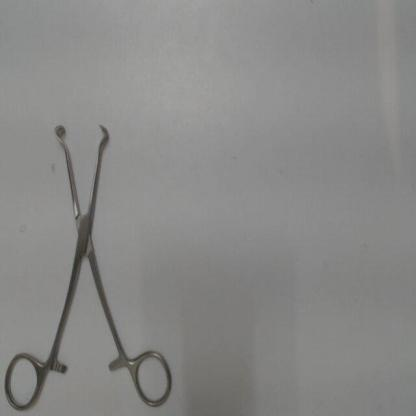Babcock Tissue Forceps: (3, 117, 178, 413)
